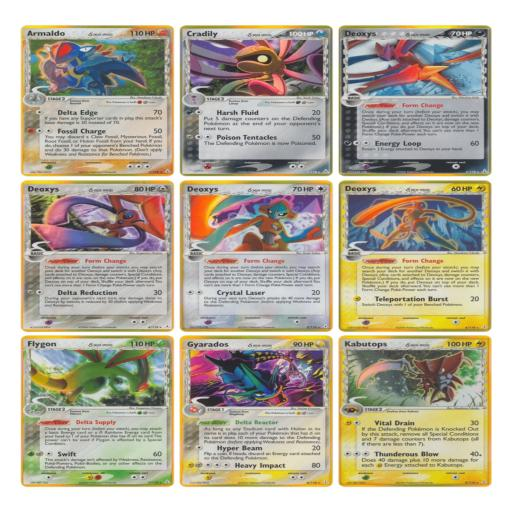card: (339, 180, 492, 333), (339, 335, 493, 487), (20, 180, 174, 332), (180, 335, 333, 487), (180, 25, 333, 177), (180, 180, 333, 332), (21, 25, 174, 176), (21, 336, 174, 487), (339, 25, 492, 176)
